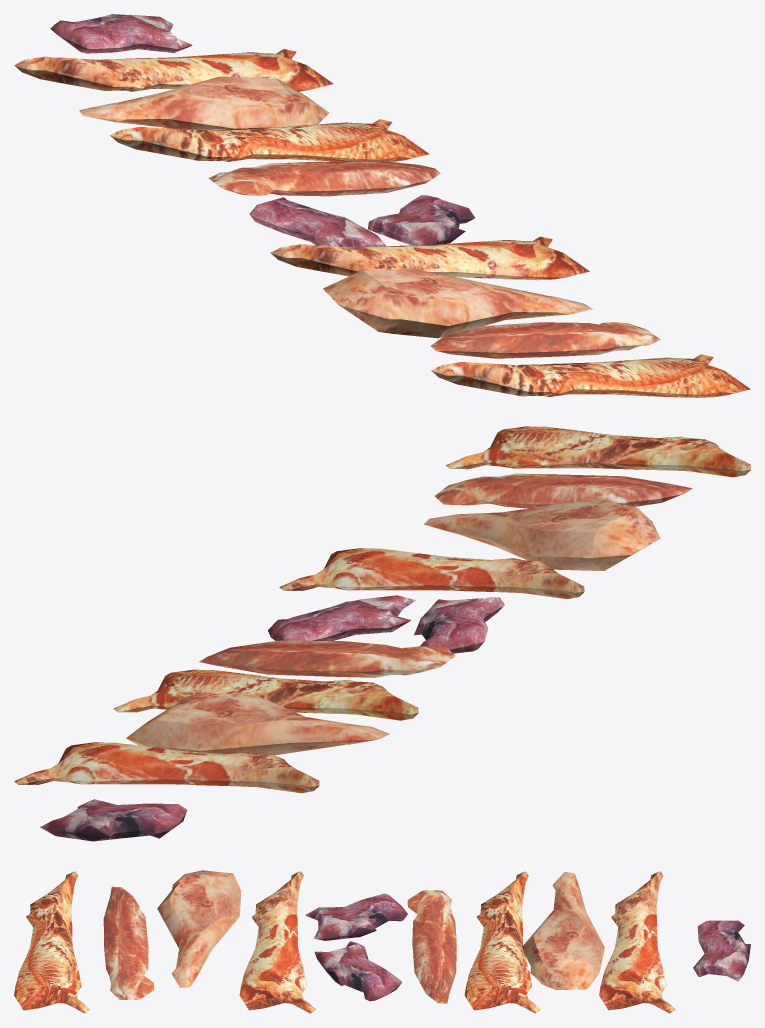
The model's file is meat_booth01_LOD01.fbx.
3 views of the same model, one above another, from view 1: azimuth 30°, elevation 25°; view 2: azimuth 150°, elevation 25°; view 3: azimuth 270°, elevation 25° (orthographic). The views are drawn at different scales.
Parts seen in each view (by area): view 1: Mesh Object; view 2: Mesh Object; view 3: Mesh Object.
Part boxes in pixels (bbox=[...]): Mesh Object: bbox=[14, 14, 750, 397]; Mesh Object: bbox=[14, 426, 750, 841]; Mesh Object: bbox=[14, 870, 750, 1013].
Size of the model in its own units: 0.6065 by 0.1569 by 1.89.
